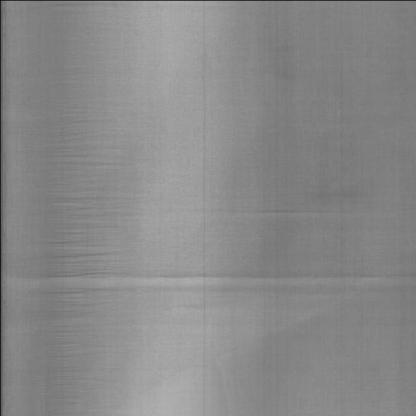waist_folding: (40, 147, 330, 375)
